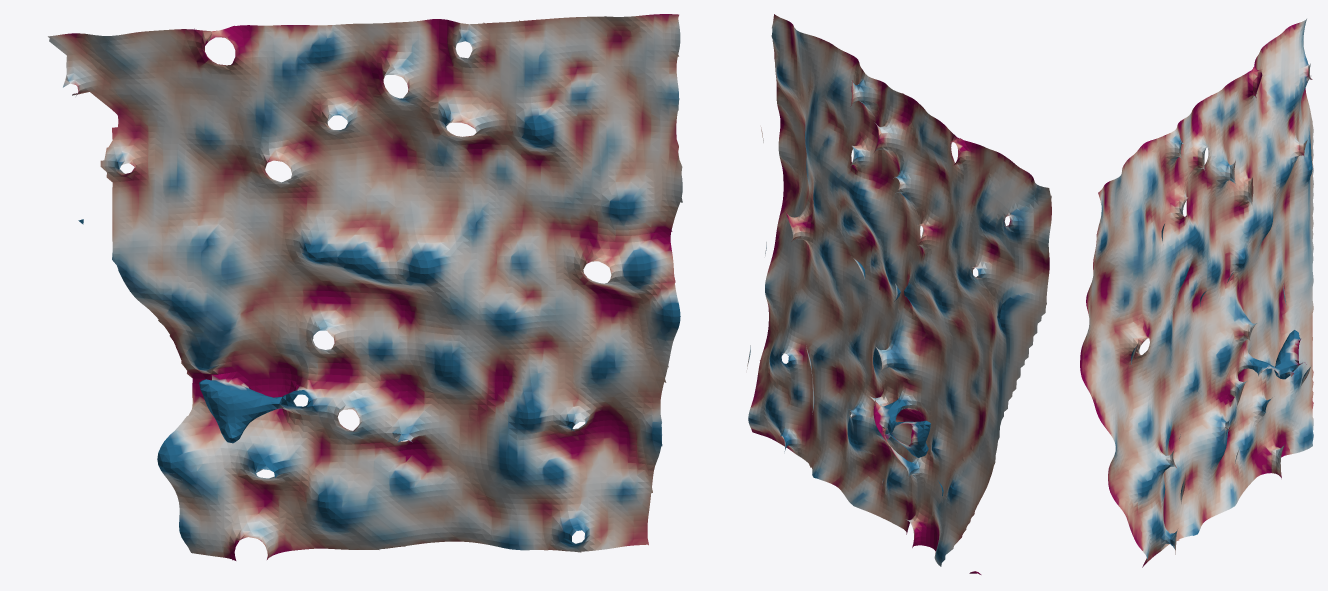
File: crop1032_deviation.glb
The picture shows the model from 3 angles, left to right: view 1: azimuth 30°, elevation 25°; view 2: azimuth 150°, elevation 25°; view 3: azimuth 270°, elevation 25°; orthographic projection. The views are drawn at different scales.
Visible parts, largest first — view 1: world; view 2: world; view 3: world.
Part boxes in pixels (bbox=[...]): world: bbox=[48, 14, 682, 560]; world: bbox=[747, 14, 1051, 574]; world: bbox=[1080, 19, 1313, 567].
Size of the model in its own units: 1480 by 1480 by 813.
